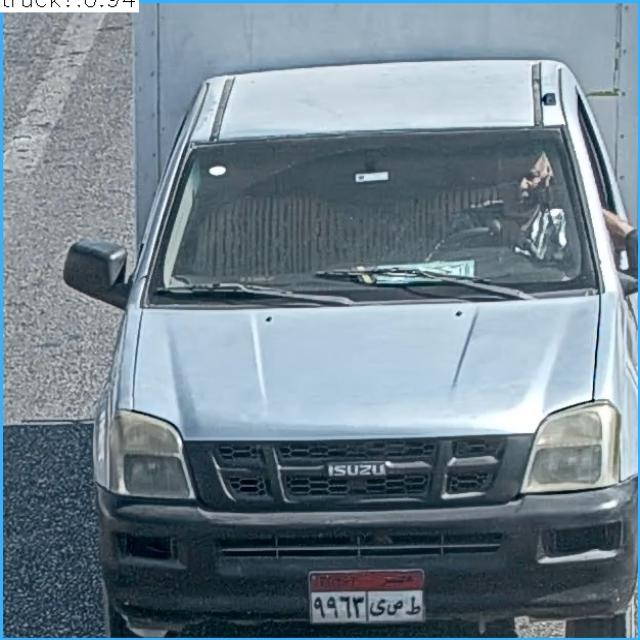windshield: (139, 137, 591, 290)
